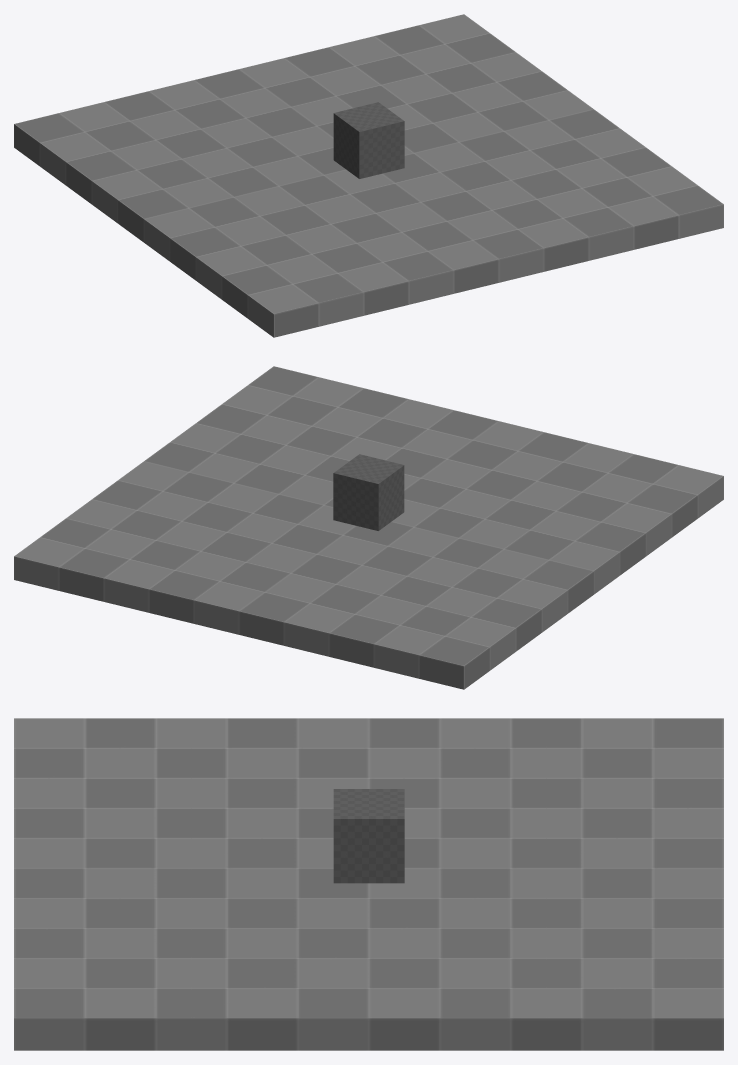
File: prueba12.glb
3 views of the same model, one above another, from view 1: azimuth 30°, elevation 25°; view 2: azimuth 150°, elevation 25°; view 3: azimuth 270°, elevation 25° (orthographic). The views are drawn at different scales.
Visible parts, largest first — view 1: Floor, StaticMesh; view 2: Floor, StaticMesh; view 3: Floor, StaticMesh.
Boxes of the visible parts, x1=… form: Floor: x1=14, y1=14, x2=723, y2=337; StaticMesh: x1=333, y1=102, x2=404, y2=178; Floor: x1=14, y1=366, x2=723, y2=689; StaticMesh: x1=333, y1=454, x2=404, y2=530; Floor: x1=14, y1=718, x2=723, y2=1050; StaticMesh: x1=333, y1=789, x2=404, y2=883.
Size of what is drawn, in the model's own units: 10 by 1.5 by 10.
2 materials, 2 textured.
